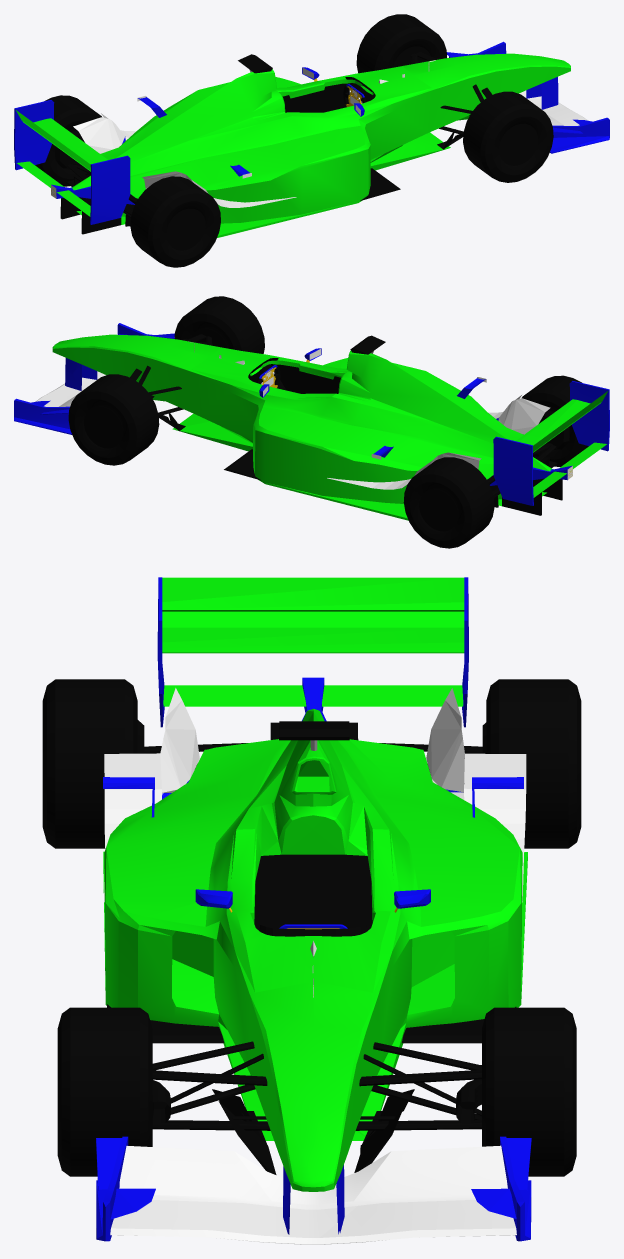
The picture shows the model from 3 angles, top to bottom: view 1: azimuth 30°, elevation 25°; view 2: azimuth 150°, elevation 25°; view 3: azimuth 270°, elevation 25°; orthographic projection. The views are drawn at different scales.
Parts seen in each view (by area): view 1: SketchUp_030, SketchUp_003, SketchUp_217, SketchUp_213, SketchUp_018, SketchUp_015, SketchUp_215, SketchUp_177, SketchUp_026, SketchUp_041, SketchUp_012, SketchUp_060 (+6 smaller); view 2: SketchUp_030, SketchUp_213, SketchUp_215, SketchUp_003, SketchUp_015, SketchUp_018, SketchUp_217, SketchUp_179, SketchUp_027, SketchUp_183, SketchUp_012, SketchUp_060 (+7 smaller); view 3: SketchUp_030, SketchUp_028, SketchUp_213, SketchUp_003, SketchUp_010, SketchUp_012, SketchUp_217, SketchUp_215, SketchUp_014, SketchUp_190, SketchUp_019, SketchUp_036 (+17 smaller).
Boxes of the visible parts, x1,y1,x2,y2 form: SketchUp_030: (71, 53, 570, 237); SketchUp_003: (463, 91, 553, 182); SketchUp_217: (130, 176, 220, 267); SketchUp_213: (356, 14, 446, 73); SketchUp_018: (90, 155, 130, 224); SketchUp_015: (14, 100, 54, 170); SketchUp_215: (35, 95, 101, 186); SketchUp_177: (282, 83, 361, 112); SketchUp_026: (550, 117, 609, 153); SketchUp_041: (73, 117, 128, 153); SketchUp_012: (22, 118, 107, 171); SketchUp_060: (60, 197, 134, 234); SketchUp_030: (52, 334, 552, 520); SketchUp_213: (68, 374, 159, 465); SketchUp_215: (403, 457, 494, 548); SketchUp_003: (174, 296, 264, 353); SketchUp_015: (493, 436, 533, 505); SketchUp_018: (569, 381, 609, 451); SketchUp_217: (522, 375, 588, 466); SketchUp_179: (262, 364, 340, 393); SketchUp_027: (14, 398, 72, 434); SketchUp_183: (499, 398, 550, 434); SketchUp_012: (515, 399, 601, 452); SketchUp_060: (490, 478, 562, 515); SketchUp_030: (103, 708, 527, 1191); SketchUp_028: (119, 1145, 507, 1209); SketchUp_213: (482, 1007, 576, 1176); SketchUp_003: (57, 1007, 152, 1176); SketchUp_010: (110, 1199, 516, 1244); SketchUp_012: (162, 611, 464, 653); SketchUp_217: (42, 679, 137, 848); SketchUp_215: (486, 679, 581, 848); SketchUp_014: (162, 577, 464, 611); SketchUp_190: (254, 854, 372, 930); SketchUp_019: (163, 685, 463, 706); SketchUp_036: (152, 1085, 481, 1130).
Size of the model in its own units: 0.8888 by 0.4016 by 0.2049.
